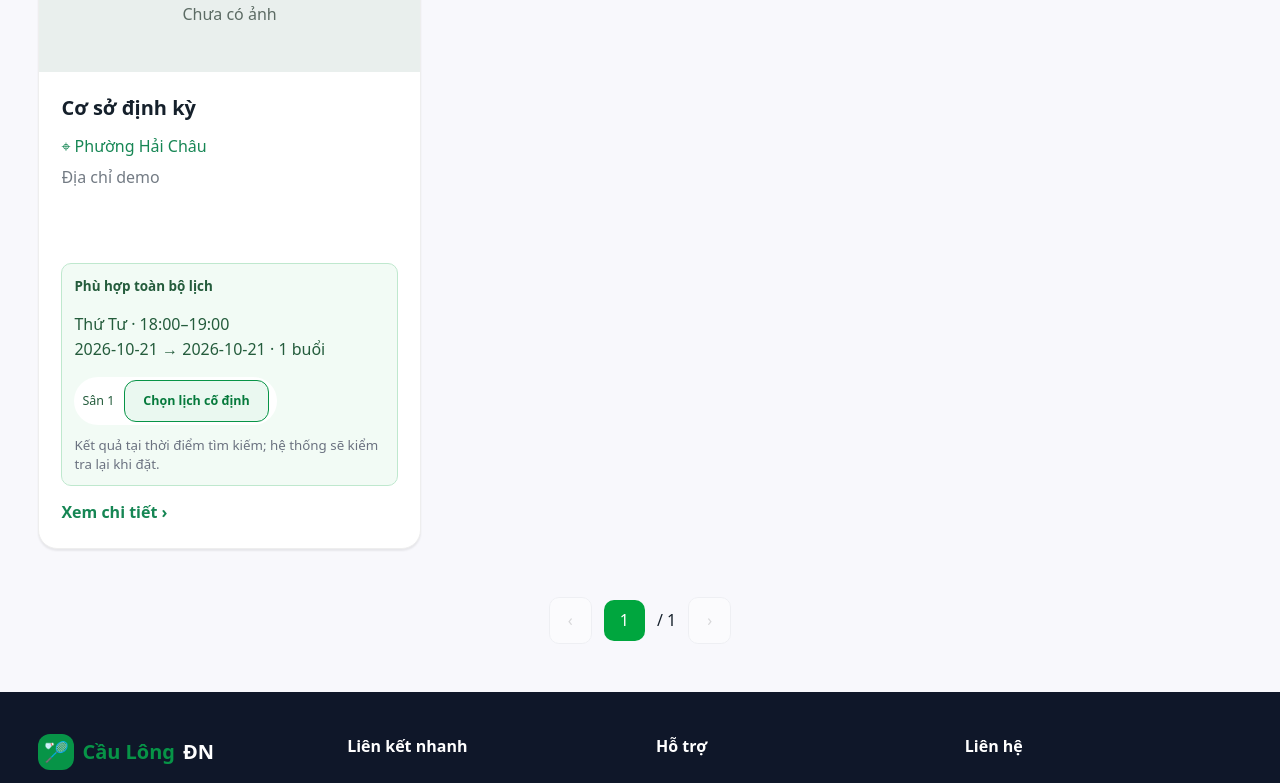
Test: guest recurring choice preserves exact intent through Register, Login, and the destination
The image size is (1280, 783).
(page scrolled)
Click the button "Chọn lịch cố định" at (196, 401), box [124,380,269,422]
(page scrolled)
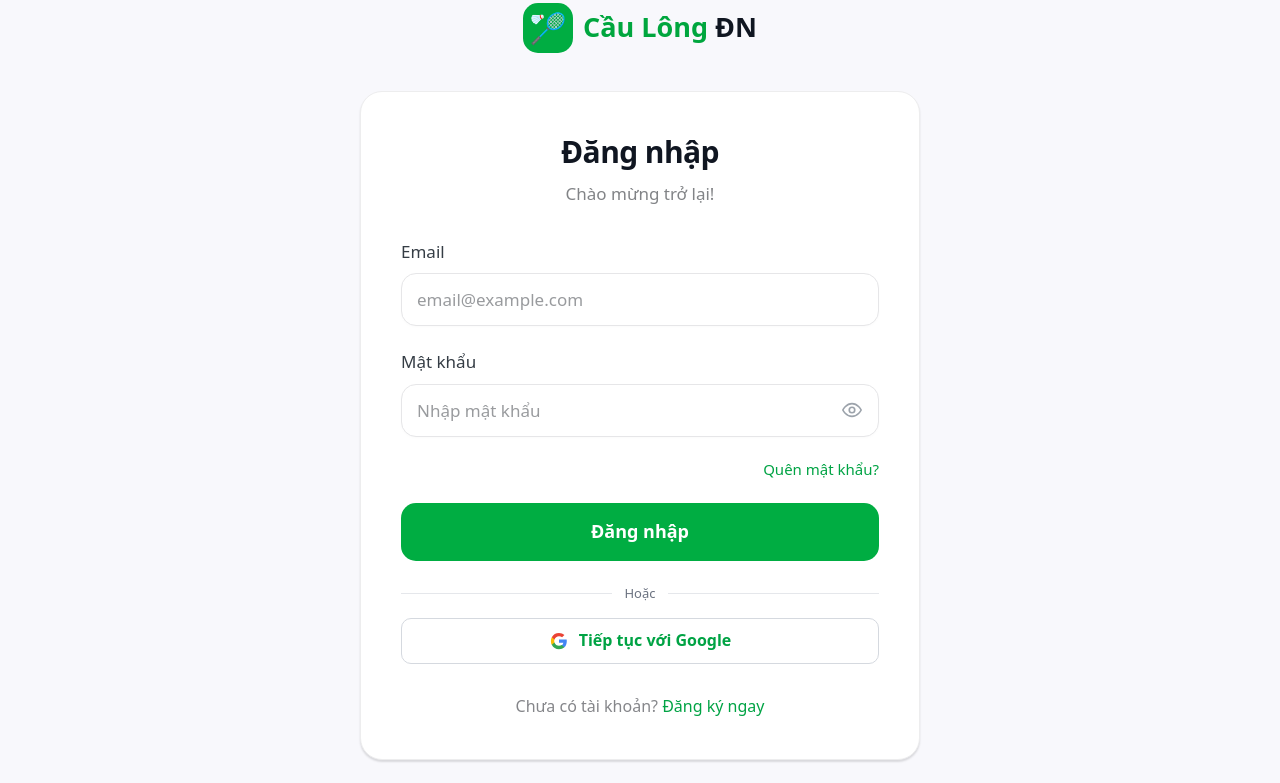
Check: the heading "Đăng nhập" is shown, box [561,131,719,172]
Click the link "Đăng ký ngay" at (713, 706), box [662,695,764,717]
(page scrolled)
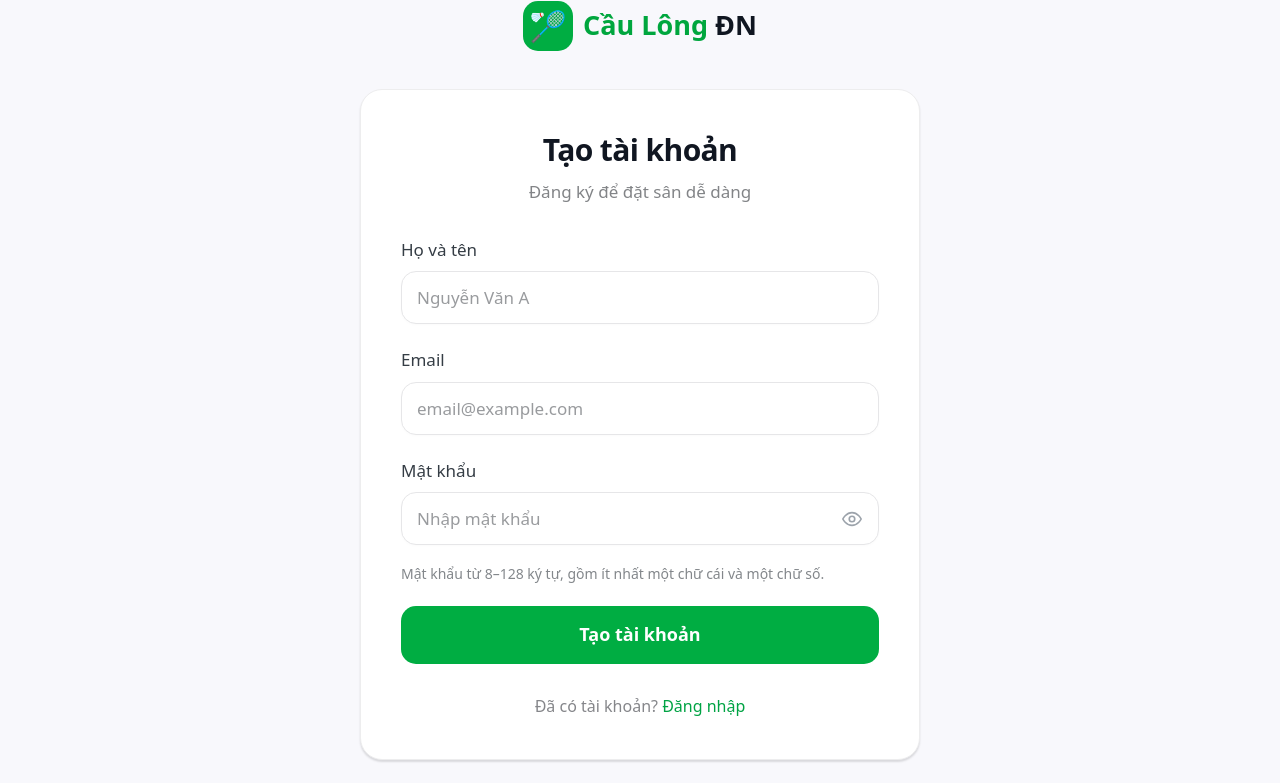
Check: the heading "Tạo tài khoản" is shown, box [543,129,737,170]
Click the link "Đăng nhập" at (704, 706), box [662,695,745,717]
(page scrolled)
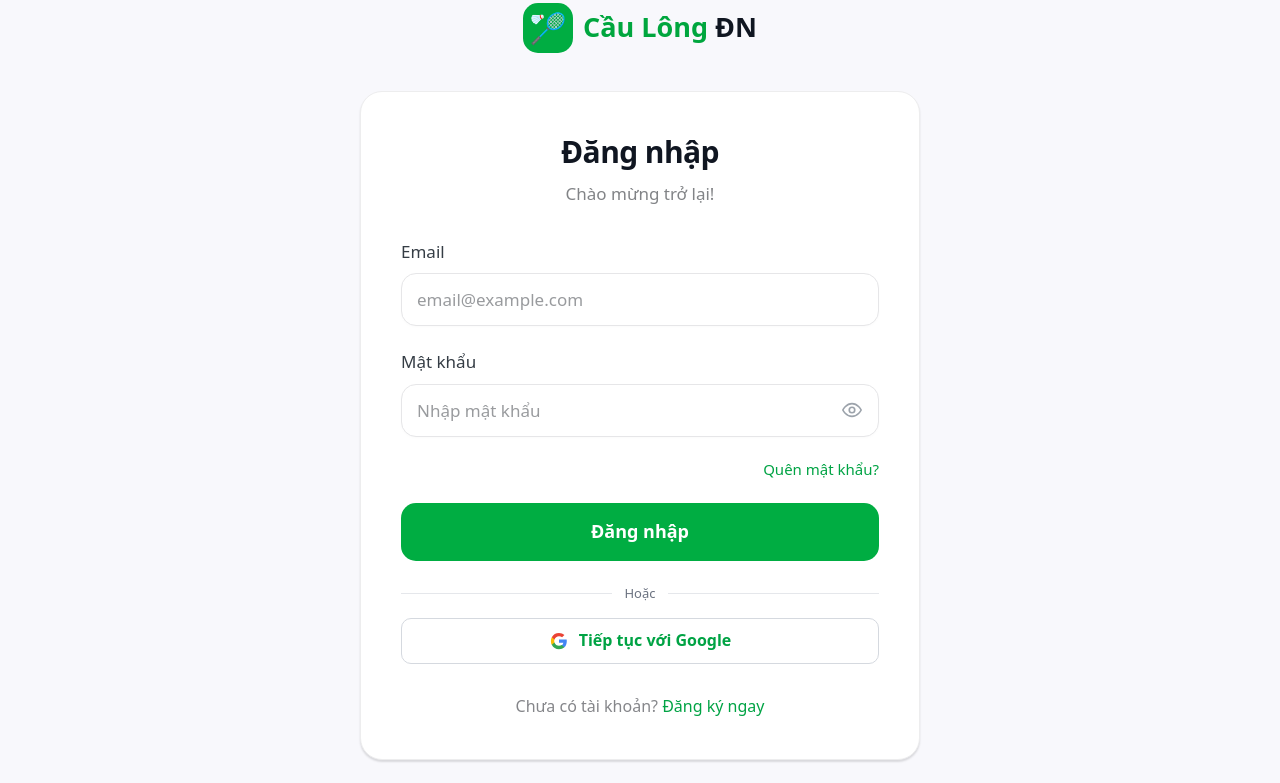
Type "demo@example.test" into the field labelled "Email" at (640, 300), box [401,273,879,326]
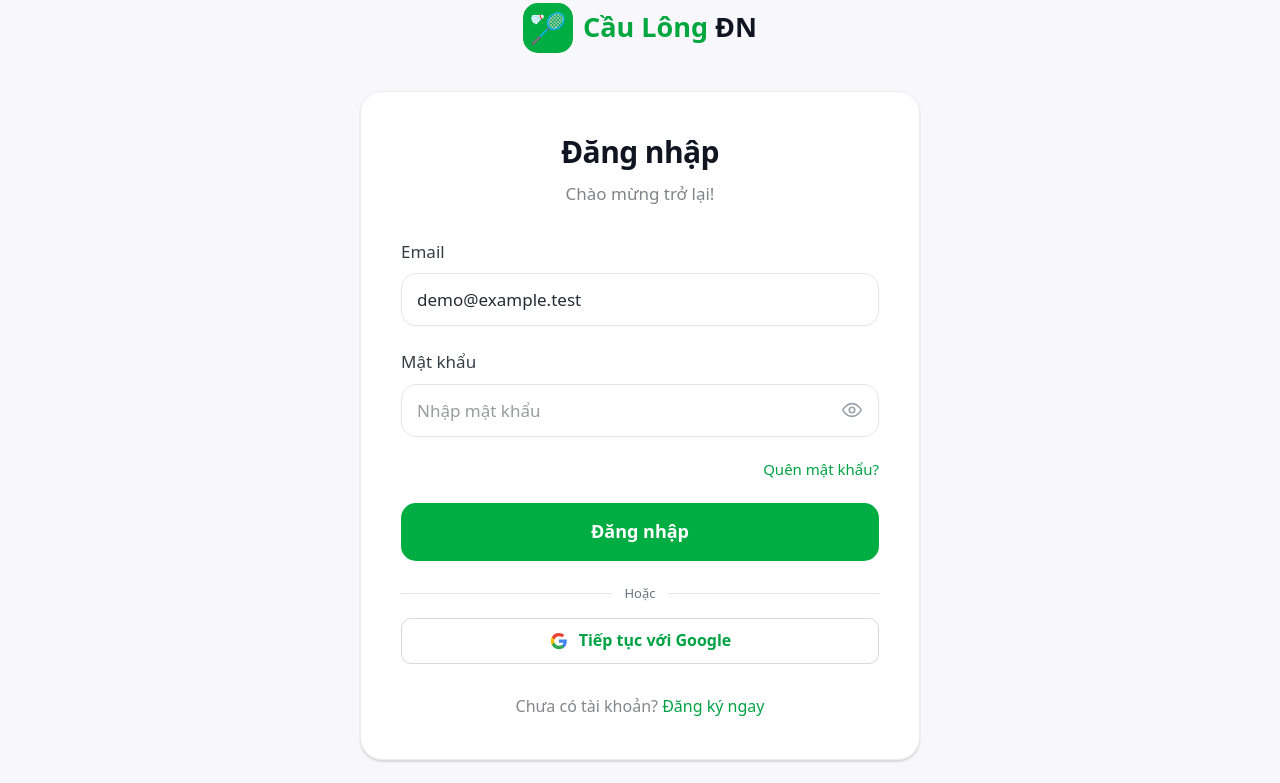
Type "Password1" into the password field with placeholder "Nhập mật khẩu" at (640, 410), box [401,384,879,437]
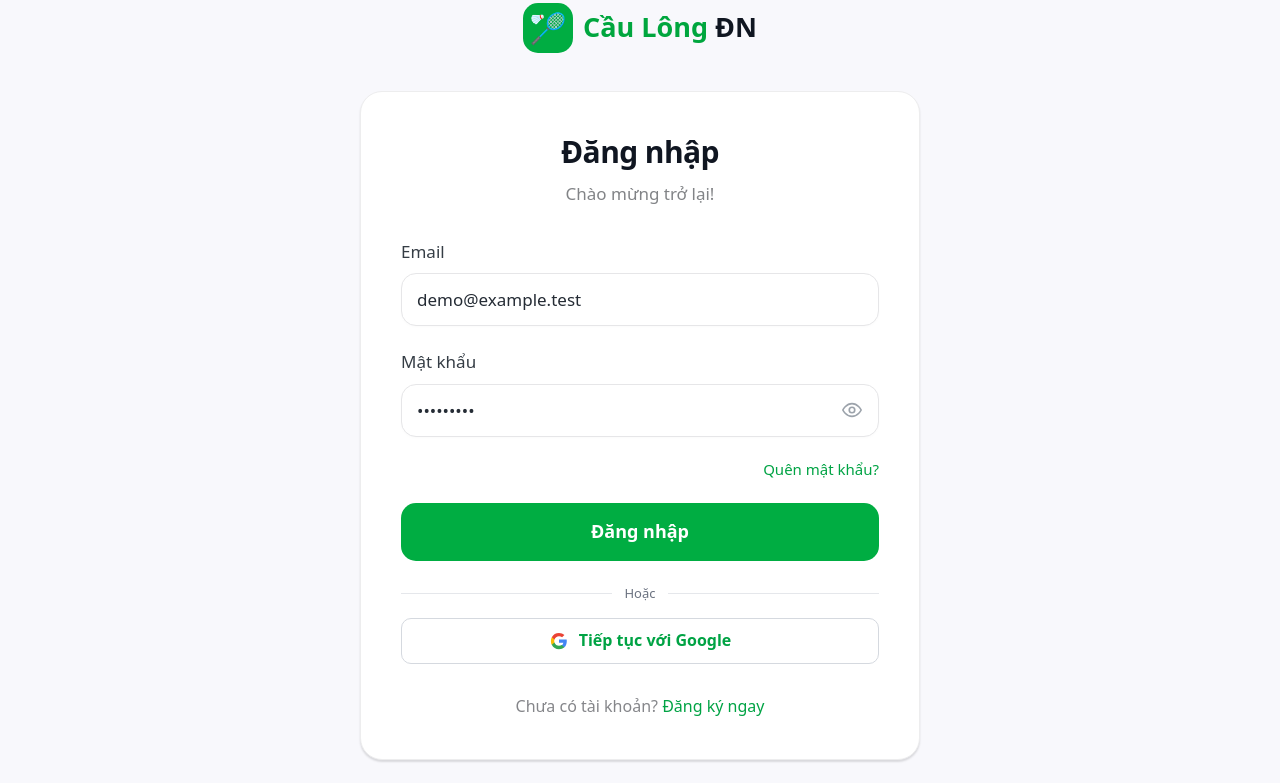
Click the button "Đăng nhập" at (640, 532), box [401,503,879,561]
(page scrolled)
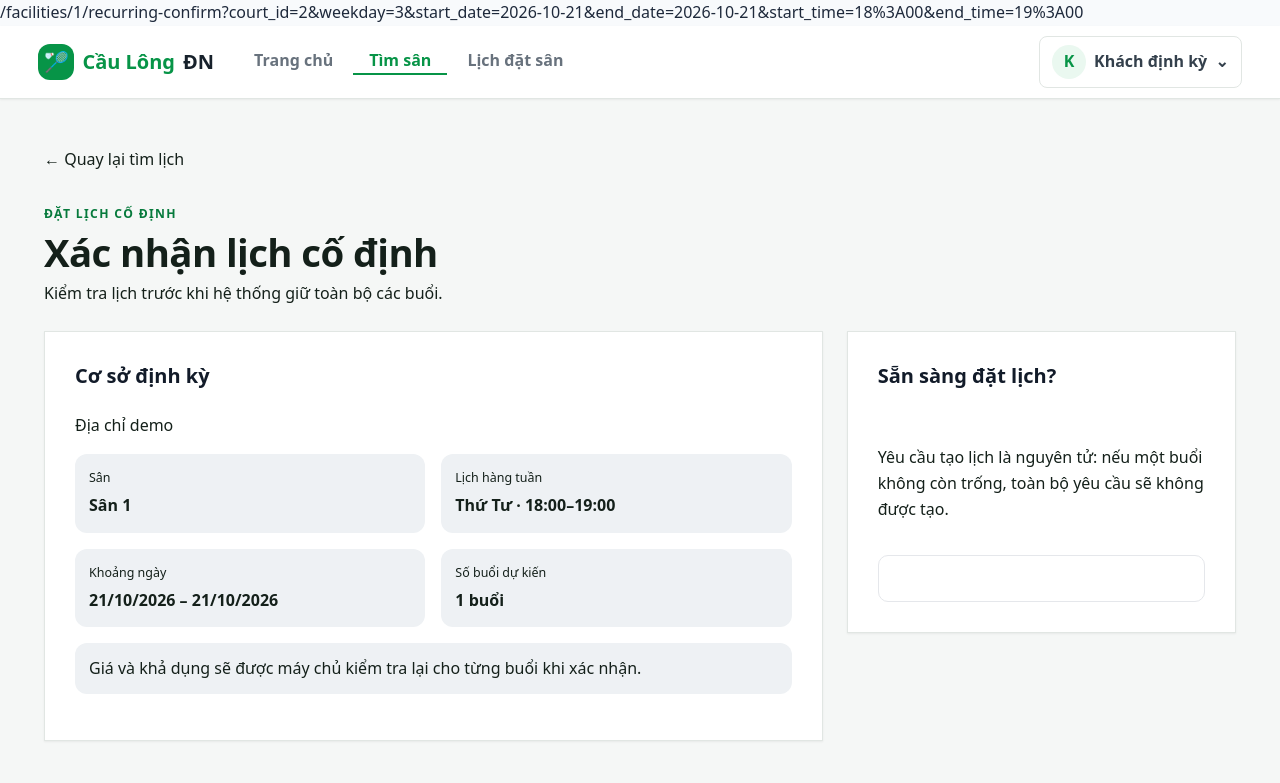
Check: the text with test id "location" shows "/facilities/1/recurring-confirm?court_id=2&weekday=3", box [0,1,1083,23]
